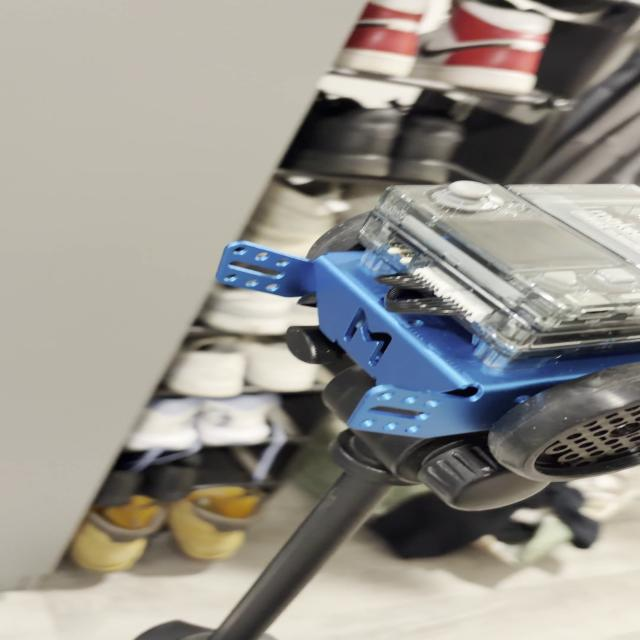mbot-detection: (201, 177, 640, 486)
